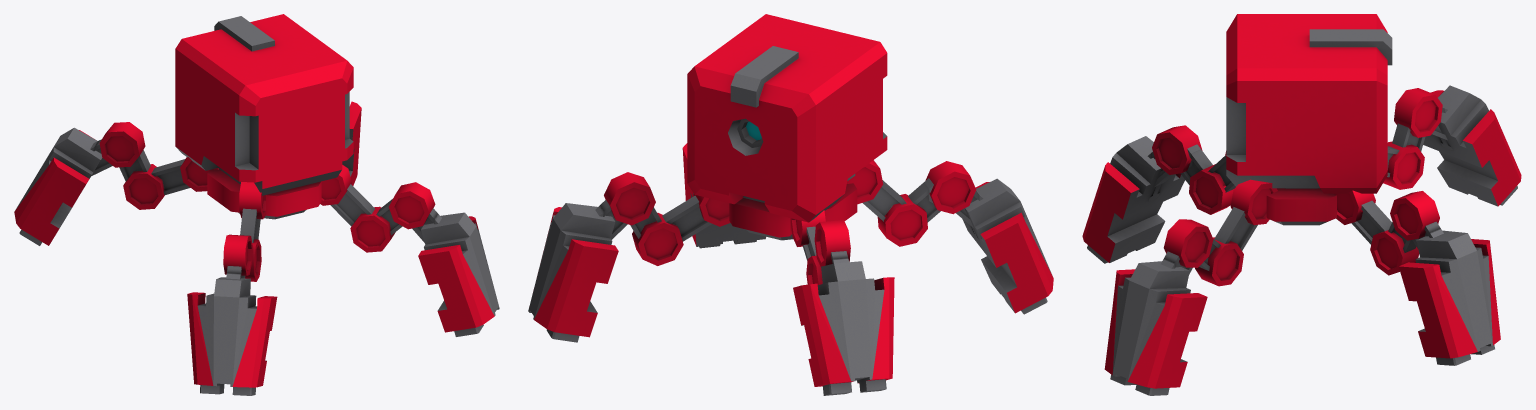
File: Monster1_Move6.obj
3 views of the same model, side by side, from view 1: azimuth 30°, elevation 25°; view 2: azimuth 150°, elevation 25°; view 3: azimuth 270°, elevation 25° (orthographic). The views are drawn at different scales.
Parts seen in each view (by area): view 1: Box006, Object021, Object017, Object025, Object028, Object020, Object027, Object018, Object019, Object026, Object022, Object024 (+2 smaller); view 2: Box006, Object025, Object013, Object021, Object016, Object023, Object024, Object015, Object014, Object022, Object028, Object017 (+1 smaller); view 3: Box006, Object013, Object017, Object021, Object025, Object018, Object020, Object023, Object016, Object028, Object027, Object024 (+3 smaller).
Part boxes in pixels (<box>): Box006: <box>175,14,353,219</box>; Object021: <box>187,277,277,395</box>; Object017: <box>418,212,499,336</box>; Object025: <box>14,127,102,245</box>; Object028: <box>90,122,145,175</box>; Object020: <box>388,182,441,242</box>; Object027: <box>119,150,164,209</box>; Object018: <box>320,165,374,226</box>; Object019: <box>350,199,402,252</box>; Object026: <box>151,157,218,195</box>; Object022: <box>239,182,266,242</box>; Object024: <box>223,234,252,279</box>; Box006: <box>687,14,887,240</box>; Object025: <box>793,261,894,395</box>; Object013: <box>528,203,618,342</box>; Object021: <box>962,178,1053,314</box>; Object016: <box>595,172,655,239</box>; Object023: <box>877,178,940,246</box>; Object024: <box>925,161,983,227</box>; Object015: <box>630,207,683,265</box>; Object014: <box>662,194,730,241</box>; Object022: <box>847,160,906,221</box>; Object028: <box>814,220,850,266</box>; Object017: <box>682,143,765,248</box>; Box006: <box>1226,14,1392,225</box>; Object013: <box>1398,230,1500,365</box>; Object017: <box>1104,261,1207,395</box>; Object021: <box>1082,136,1184,263</box>; Object025: <box>1423,85,1521,206</box>; Object018: <box>1214,179,1277,250</box>; Object020: <box>1161,219,1213,274</box>; Object023: <box>1180,144,1233,214</box>; Object016: <box>1390,191,1443,248</box>; Object028: <box>1394,88,1447,140</box>; Object027: <box>1383,123,1425,189</box>; Object024: <box>1147,125,1202,187</box>.
Size of the model in its own units: 152 by 115 by 160.
